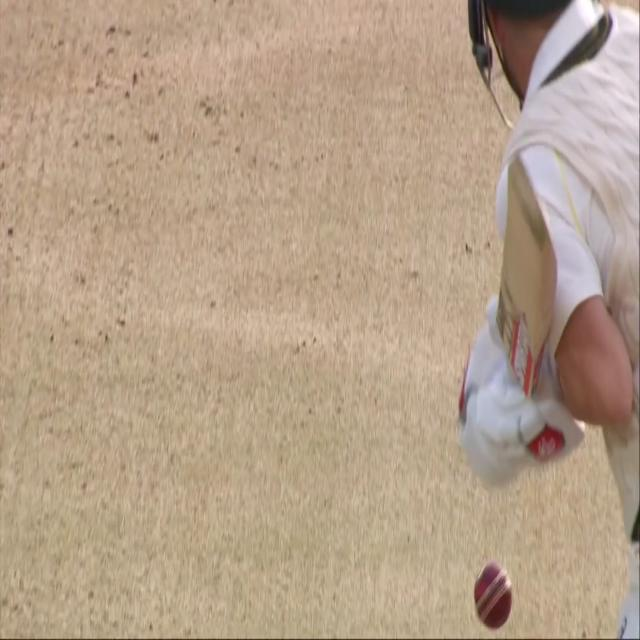ball: (465, 552, 518, 633)
